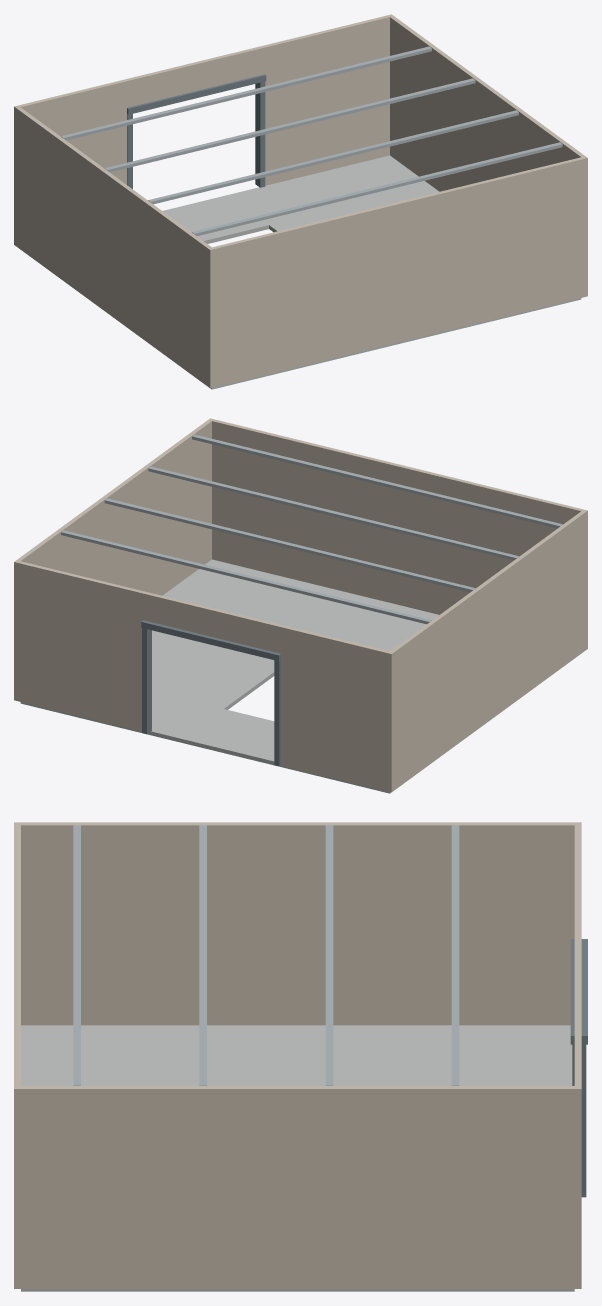
The model's file is PZ194_08_WorkshopShell.glb.
The picture shows the model from 3 angles, top to bottom: view 1: azimuth 30°, elevation 25°; view 2: azimuth 150°, elevation 25°; view 3: azimuth 270°, elevation 25°; orthographic projection. The views are drawn at different scales.
Visible parts, largest first — view 1: PZ194_08_WorkshopShell_rear_wall, PZ194_08_WorkshopShell_west_wall, PZ194_08_WorkshopShell_east_wall, PZ194_08_WorkshopShell_front_right, PZ194_08_WorkshopShell_floor_pit_right, PZ194_08_WorkshopShell_front_left, PZ194_08_WorkshopShell_front_header, PZ194_08_WorkshopShell_floor_pit_front, PZ194_08_WorkshopShell_overhead_beam_16, PZ194_08_WorkshopShell_overhead_beam_4, PZ194_08_WorkshopShell_overhead_beam_8, PZ194_08_WorkshopShell_overhead_beam_12 (+2 smaller); view 2: PZ194_08_WorkshopShell_rear_wall, PZ194_08_WorkshopShell_west_wall, PZ194_08_WorkshopShell_front_right, PZ194_08_WorkshopShell_east_wall, PZ194_08_WorkshopShell_floor_pit_right, PZ194_08_WorkshopShell_front_left, PZ194_08_WorkshopShell_front_header, PZ194_08_WorkshopShell_floor_pit_back, PZ194_08_WorkshopShell_floor_pit_front, PZ194_08_WorkshopShell_overhead_beam_8, PZ194_08_WorkshopShell_overhead_beam_12, PZ194_08_WorkshopShell_overhead_beam_4 (+5 smaller); view 3: PZ194_08_WorkshopShell_east_wall, PZ194_08_WorkshopShell_west_wall, PZ194_08_WorkshopShell_floor_west, PZ194_08_WorkshopShell_overhead_beam_4, PZ194_08_WorkshopShell_overhead_beam_8, PZ194_08_WorkshopShell_overhead_beam_12, PZ194_08_WorkshopShell_overhead_beam_16, PZ194_08_WorkshopShell_rear_wall, PZ194_08_WorkshopShell_floor_pit_right, PZ194_08_WorkshopShell_bay_lintel, PZ194_08_WorkshopShell_garage_jamb_13, PZ194_08_WorkshopShell_front_header (+2 smaller).
Boxes of the visible parts, <box> form: PZ194_08_WorkshopShell_rear_wall: <box>212,157,583,387</box>; PZ194_08_WorkshopShell_west_wall: <box>14,105,214,388</box>; PZ194_08_WorkshopShell_east_wall: <box>388,14,587,297</box>; PZ194_08_WorkshopShell_front_right: <box>260,15,389,185</box>; PZ194_08_WorkshopShell_floor_pit_right: <box>228,155,581,338</box>; PZ194_08_WorkshopShell_front_left: <box>18,79,129,184</box>; PZ194_08_WorkshopShell_front_header: <box>127,46,261,106</box>; PZ194_08_WorkshopShell_floor_pit_front: <box>163,195,268,243</box>; PZ194_08_WorkshopShell_overhead_beam_16: <box>191,142,562,236</box>; PZ194_08_WorkshopShell_overhead_beam_4: <box>61,46,431,140</box>; PZ194_08_WorkshopShell_overhead_beam_8: <box>104,78,475,172</box>; PZ194_08_WorkshopShell_overhead_beam_12: <box>148,110,518,204</box>; PZ194_08_WorkshopShell_rear_wall: <box>212,419,583,614</box>; PZ194_08_WorkshopShell_west_wall: <box>387,509,587,792</box>; PZ194_08_WorkshopShell_front_right: <box>17,561,148,731</box>; PZ194_08_WorkshopShell_east_wall: <box>14,418,213,701</box>; PZ194_08_WorkshopShell_floor_pit_right: <box>20,559,373,742</box>; PZ194_08_WorkshopShell_front_left: <box>278,625,389,791</box>; PZ194_08_WorkshopShell_front_header: <box>146,592,280,652</box>; PZ194_08_WorkshopShell_floor_pit_back: <box>325,599,438,651</box>; PZ194_08_WorkshopShell_floor_pit_front: <box>182,709,274,759</box>; PZ194_08_WorkshopShell_overhead_beam_8: <box>104,498,475,592</box>; PZ194_08_WorkshopShell_overhead_beam_12: <box>148,466,518,560</box>; PZ194_08_WorkshopShell_overhead_beam_4: <box>61,530,431,624</box>; PZ194_08_WorkshopShell_east_wall: <box>14,1086,581,1288</box>; PZ194_08_WorkshopShell_west_wall: <box>14,822,581,1025</box>; PZ194_08_WorkshopShell_floor_west: <box>21,1025,572,1085</box>; PZ194_08_WorkshopShell_overhead_beam_4: <box>451,825,459,1085</box>; PZ194_08_WorkshopShell_overhead_beam_8: <box>325,825,333,1085</box>; PZ194_08_WorkshopShell_overhead_beam_12: <box>199,825,206,1085</box>; PZ194_08_WorkshopShell_overhead_beam_16: <box>73,825,80,1085</box>; PZ194_08_WorkshopShell_rear_wall: <box>14,825,20,1085</box>; PZ194_08_WorkshopShell_floor_pit_right: <box>21,1289,574,1291</box>; PZ194_08_WorkshopShell_bay_lintel: <box>570,939,587,1044</box>; PZ194_08_WorkshopShell_garage_jamb_13: <box>572,1044,586,1197</box>; PZ194_08_WorkshopShell_front_header: <box>574,902,581,995</box>.
Size of the model in its own units: 20 by 7.2 by 18.2.
